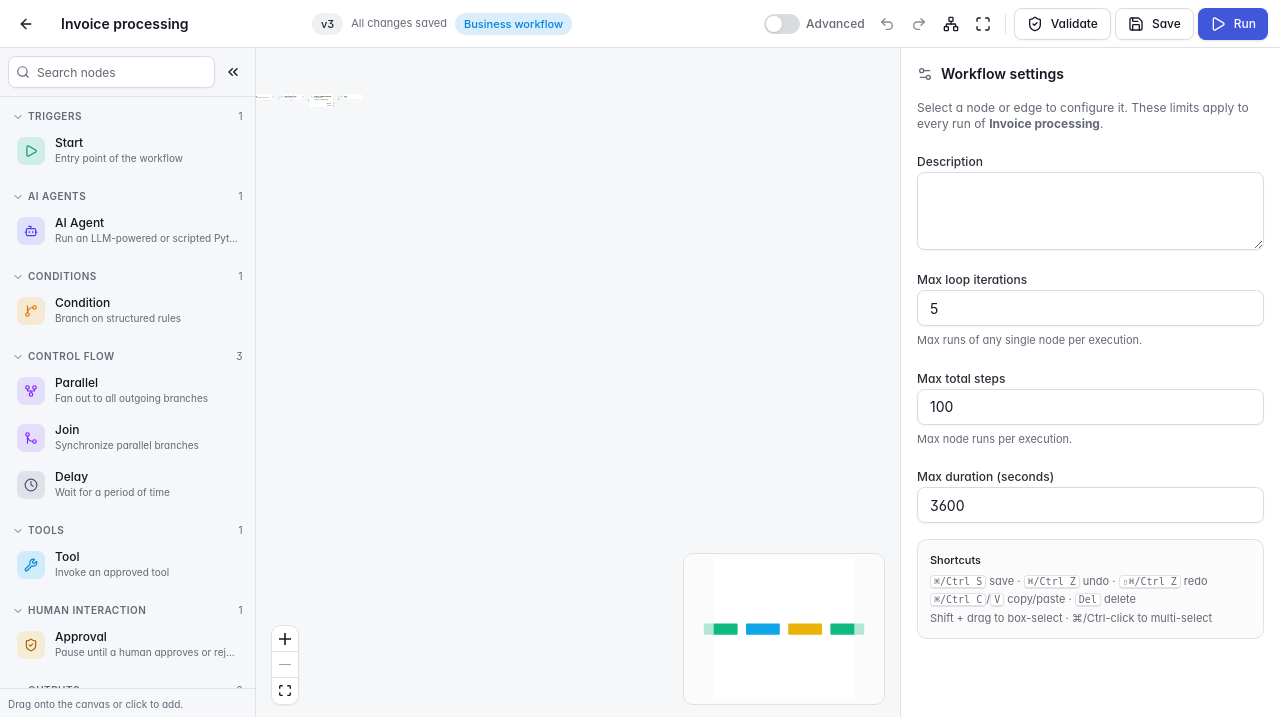
Test: Advanced editor on a plan-based workflow › explains unsupported edits, highlights them, keeps the changes and offers detaching
Expected: the field named "Workflow name" is shown, [48,8,304,40]
Expected: the text "Business workflow" is shown, [455,12,572,34]
Note: A change the business plan cannot express
Step 1. Click the button with test id "palette-parallel" → (128, 390), box [8,368,247,413]
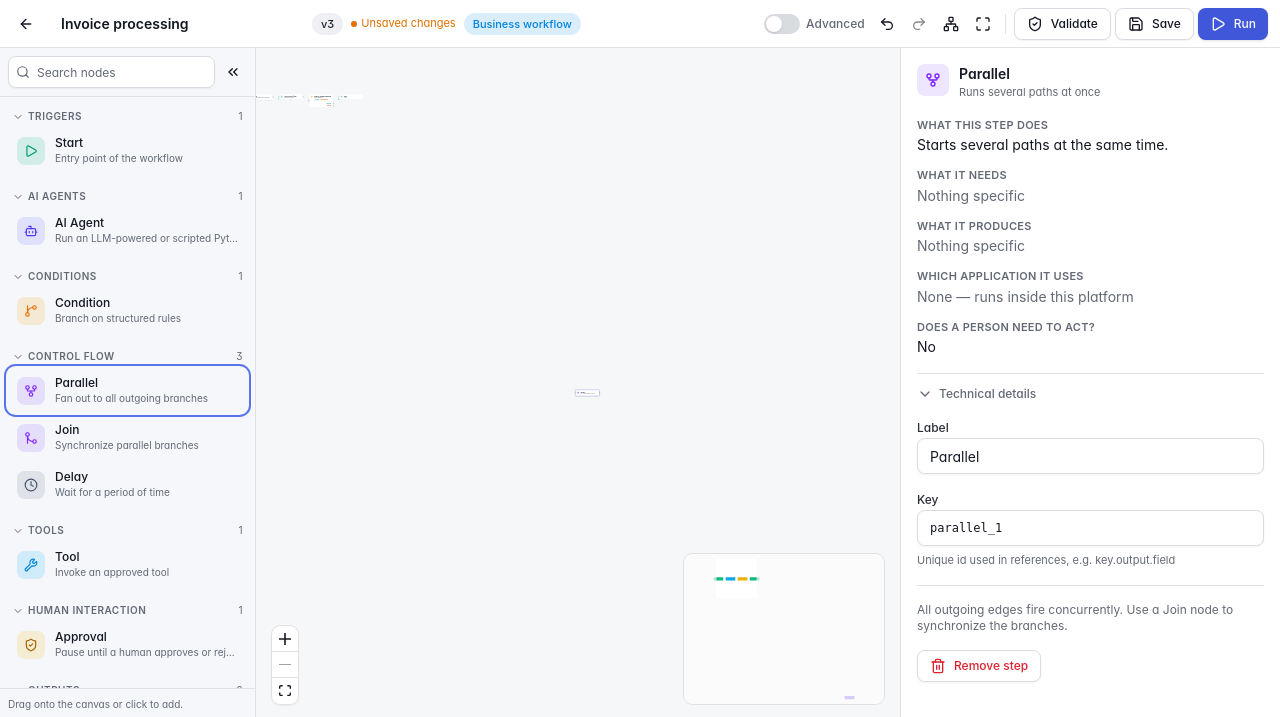
Step 2. Click the button "Save" → (1154, 24), box [1115,8,1194,40]
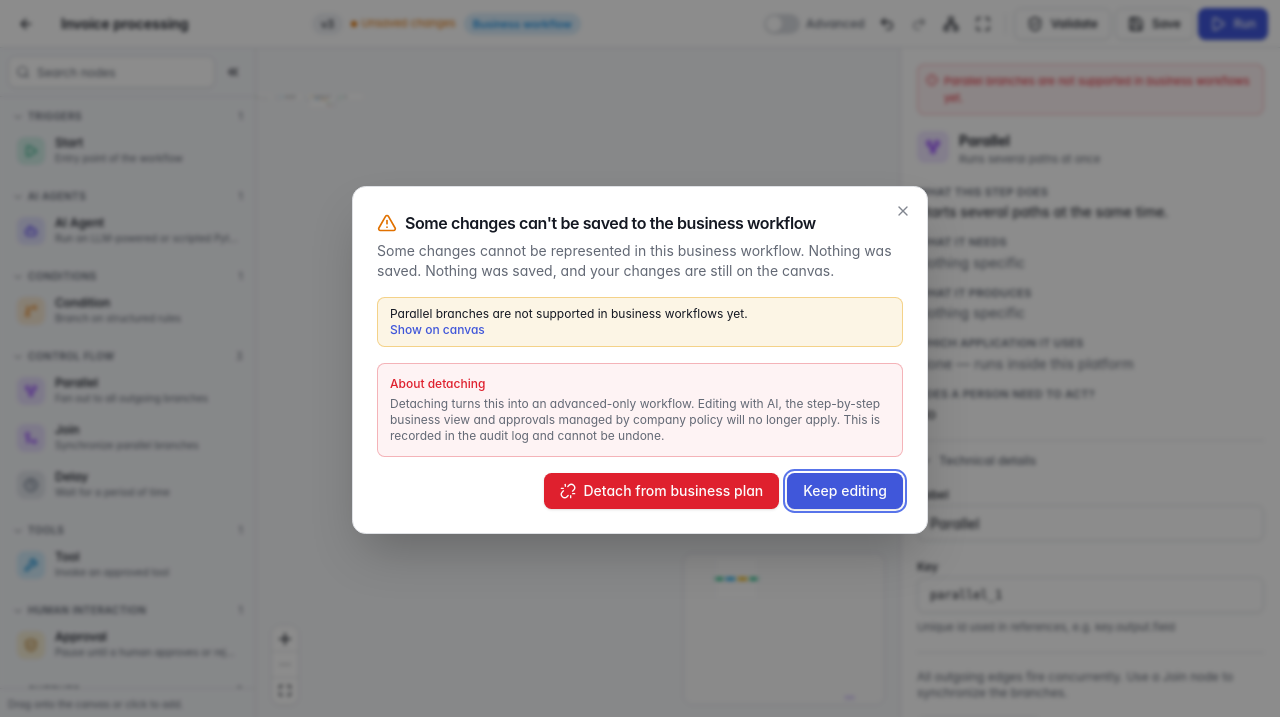
Result: the text "Parallel branches are not supported in business workflows yet." is shown at [390,306,748,321]
Result: the text "Nothing was saved" is shown at [377,242,892,279]
Result: the text "Editing with AI, the step-by-step business view and approvals" is shown at [390,396,880,443]
Step 3. Click the button "Keep editing" → (845, 491), box [787,473,903,509]
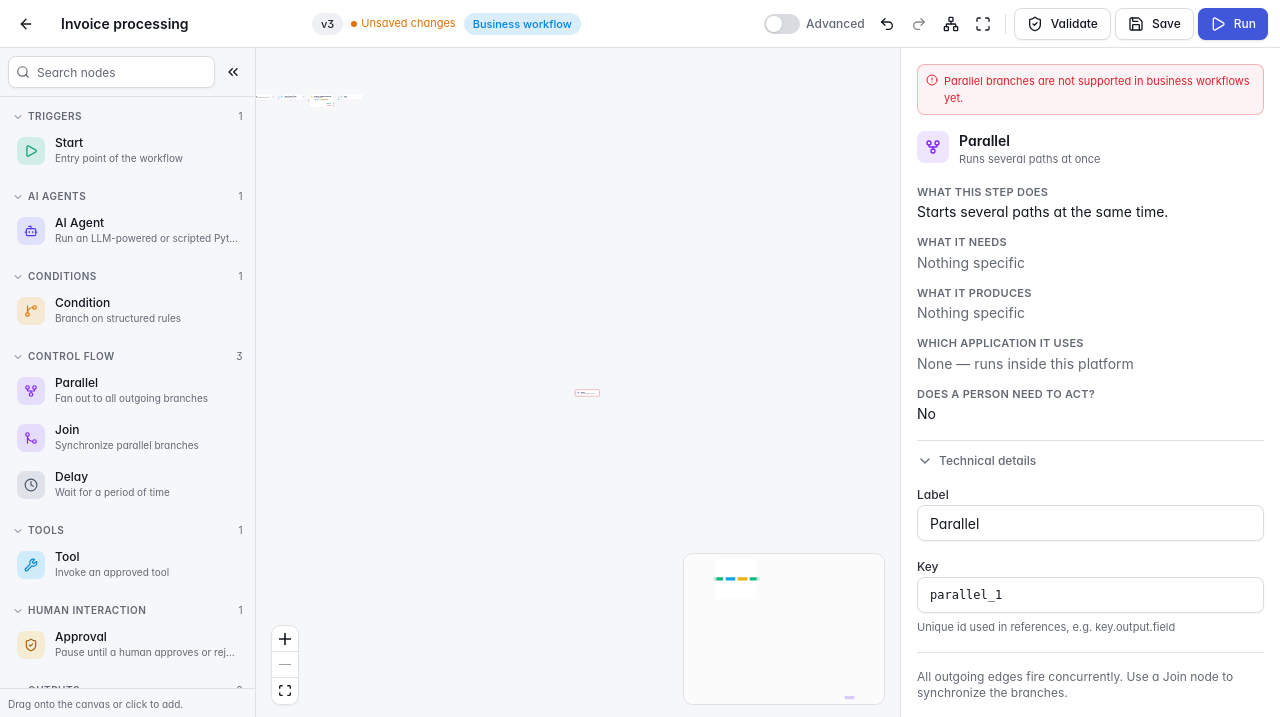
Result: the dialog is gone
Note: Save again, then detach: the same graph is saved afterwards
Step 4. Click the button "Save" → (1154, 24), box [1115,8,1194,40]
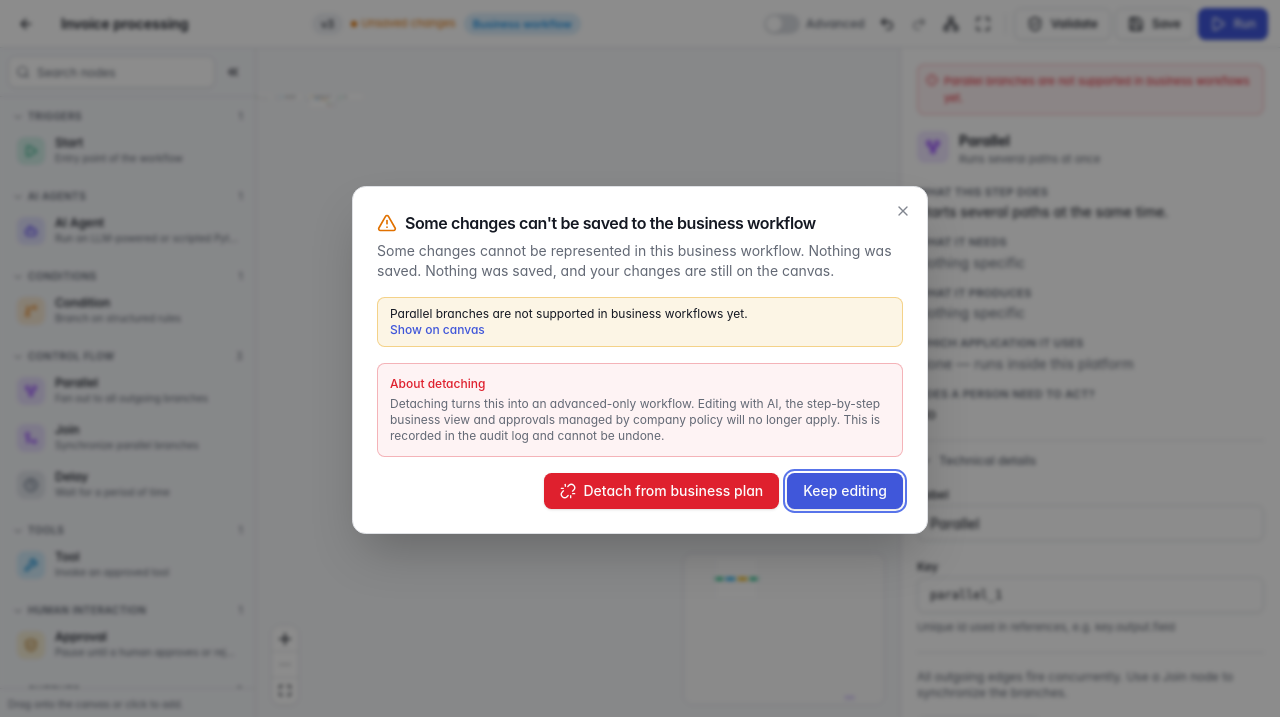
Step 5. Click the button "Detach from business plan" → (661, 491), box [544,473,779,509]
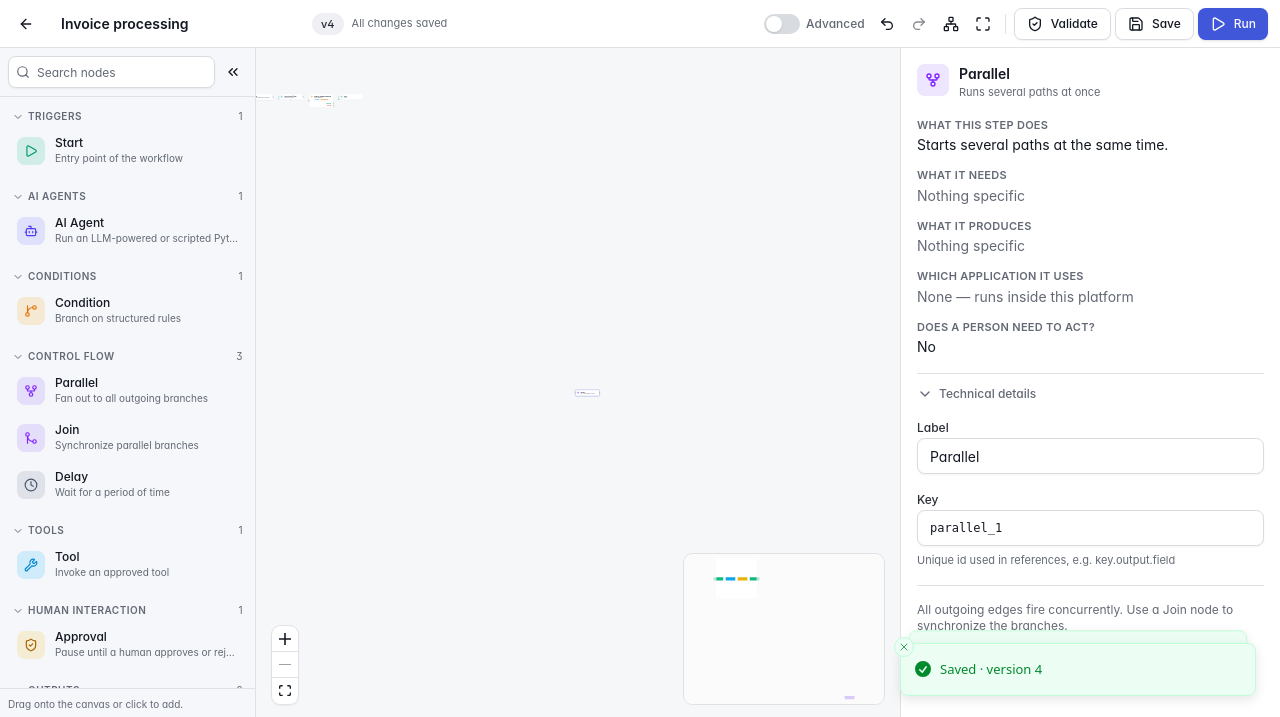
Expected: the text "Check invoice fields" is shown, [284,95,297,97]
Result: the text "All changes saved" is shown at [352,15,447,32]
